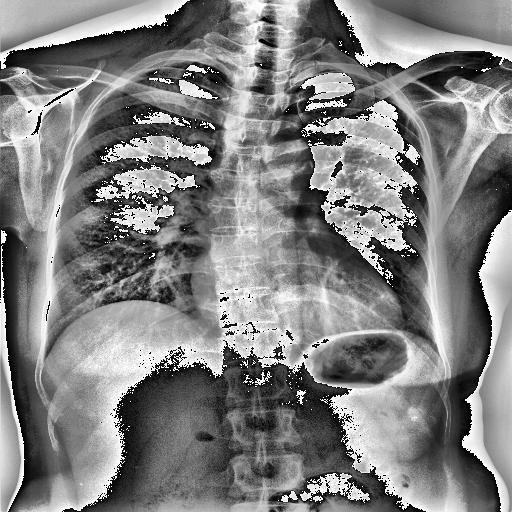11- Pleural thickening: (292, 65, 344, 82), (144, 58, 215, 70)
13- Pulmonary fibrosis: (316, 250, 354, 332)
2- Calcification: (301, 160, 314, 170)
3- Cardiomegaly: (188, 268, 405, 336), (187, 263, 405, 330), (191, 270, 406, 335)
